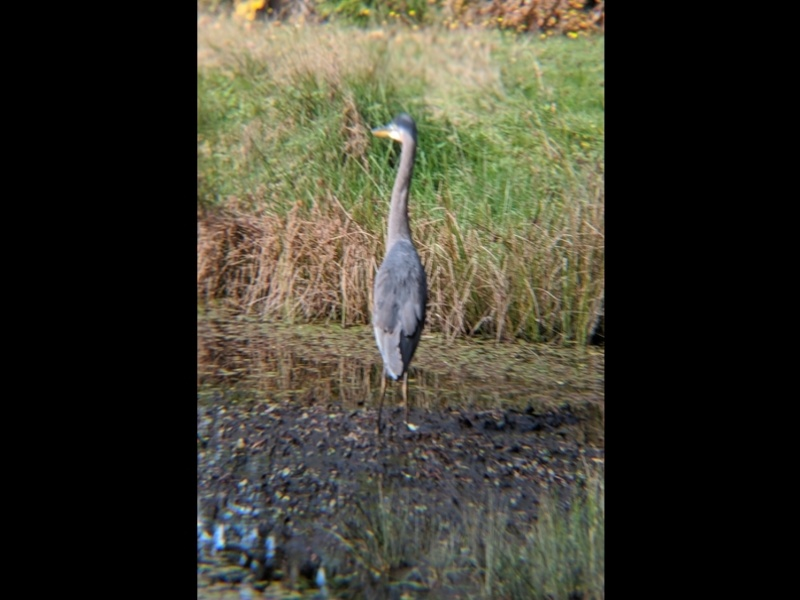heron: (364, 113, 427, 416)
